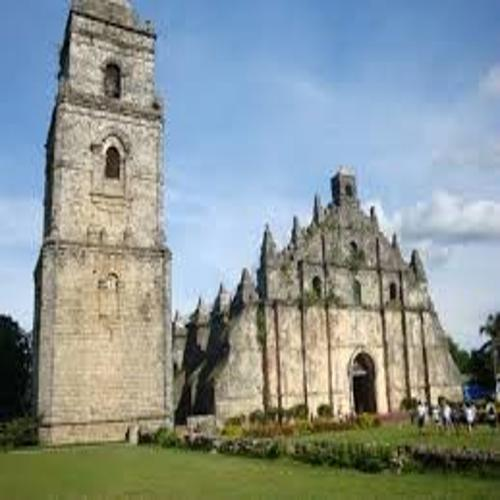Paoay Church: (22, 1, 479, 437)
